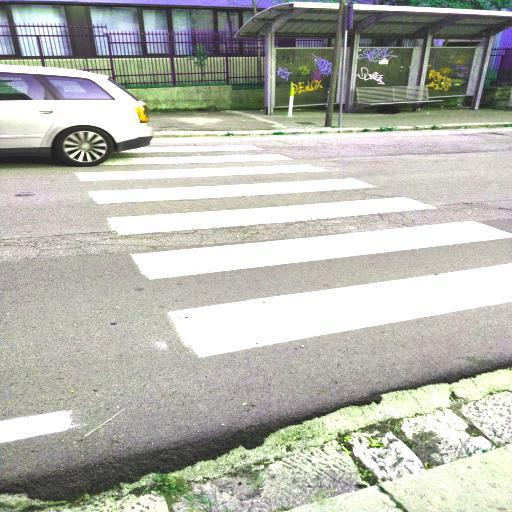crosswalk: (52, 174, 486, 240)
